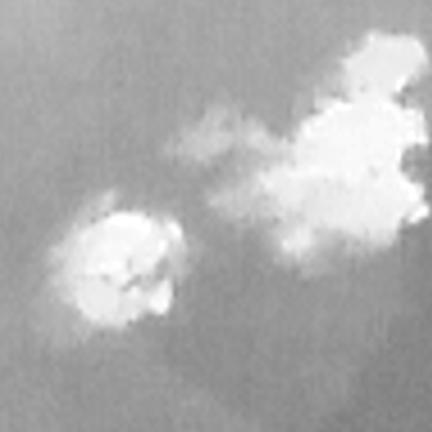flukeprints: (244, 35, 428, 257), (74, 212, 177, 285), (76, 278, 172, 328)
